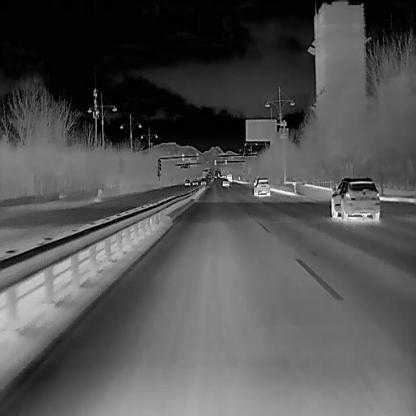bus: (227, 173, 231, 181)
car: (330, 175, 380, 221), (252, 174, 272, 197), (221, 178, 228, 187), (183, 178, 190, 185), (191, 178, 197, 184)
